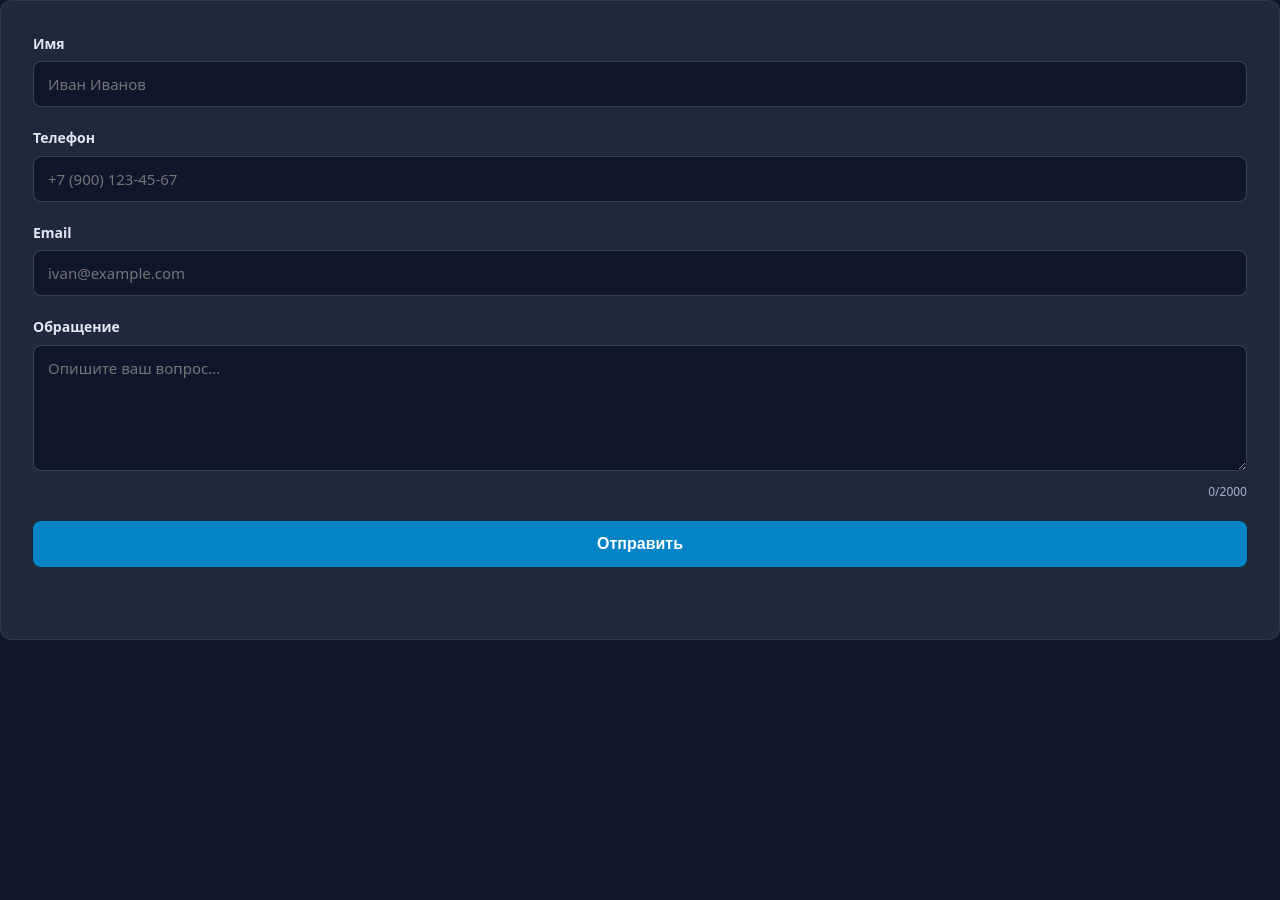
ContactForm › показывает ошибки по всем полям при пустой отправке
What coordinates should you click on to do the following:
click the button "Отправить"
I would click on:
 (640, 544)
Its box is [33,521,1247,567].
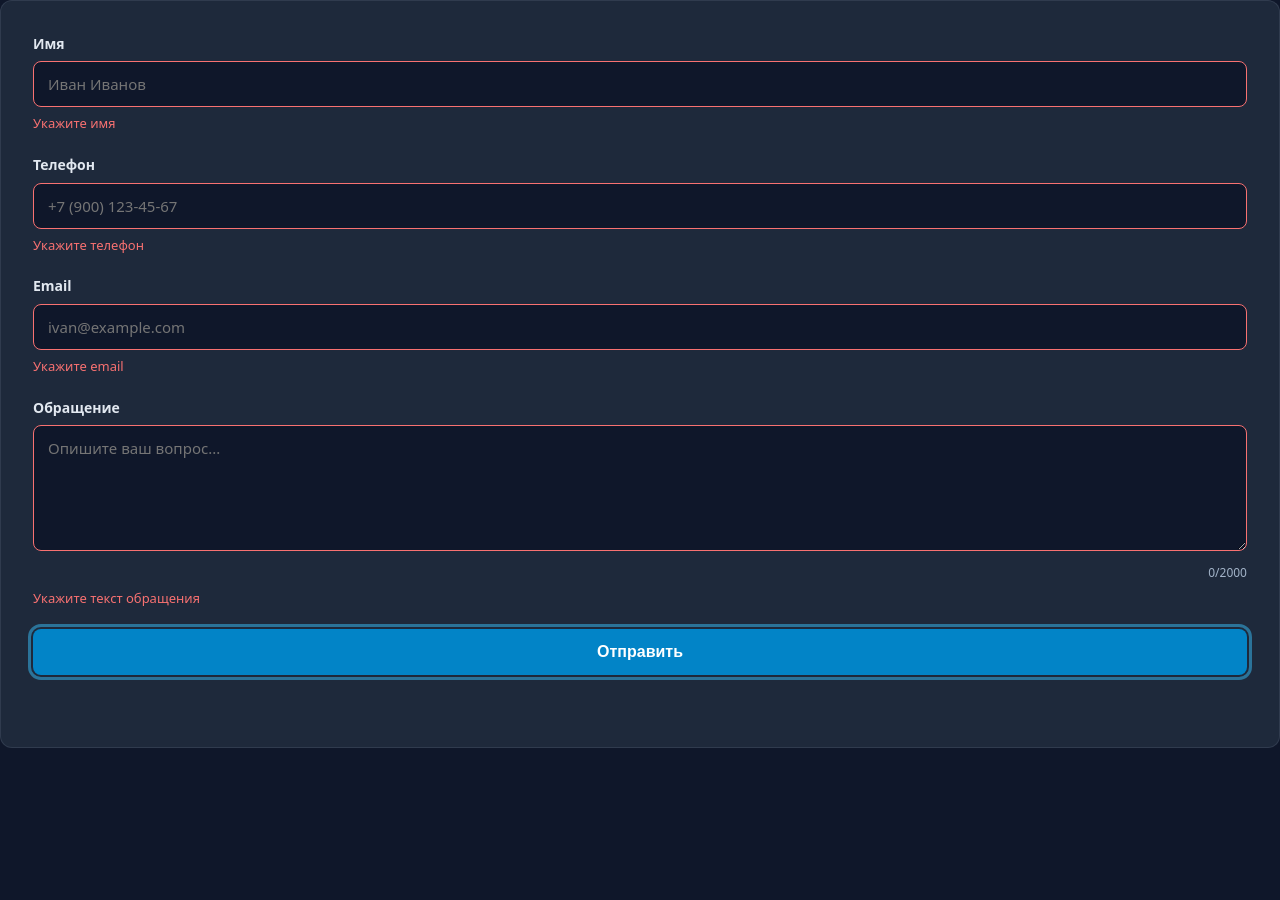
Check: the text "Укажите имя" is shown, box [33,114,116,132]
Check: the text "Укажите телефон" is shown, box [33,236,144,254]
Check: the text "Укажите email" is shown, box [33,357,124,375]
